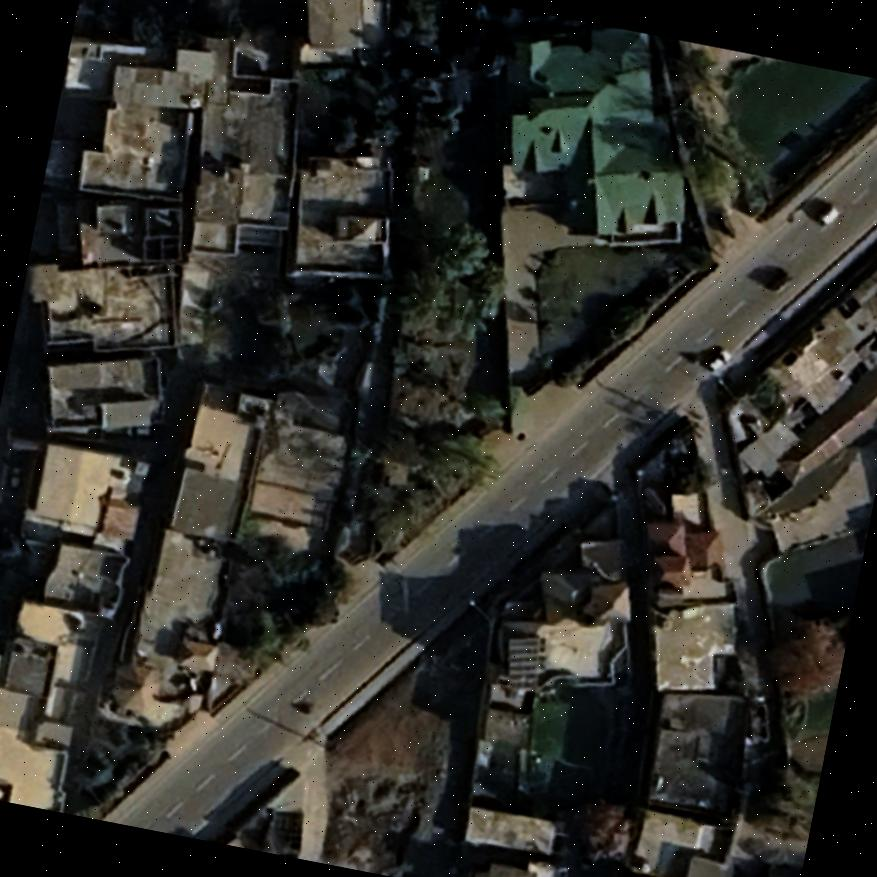Solarpanel: (492, 624, 555, 695)
